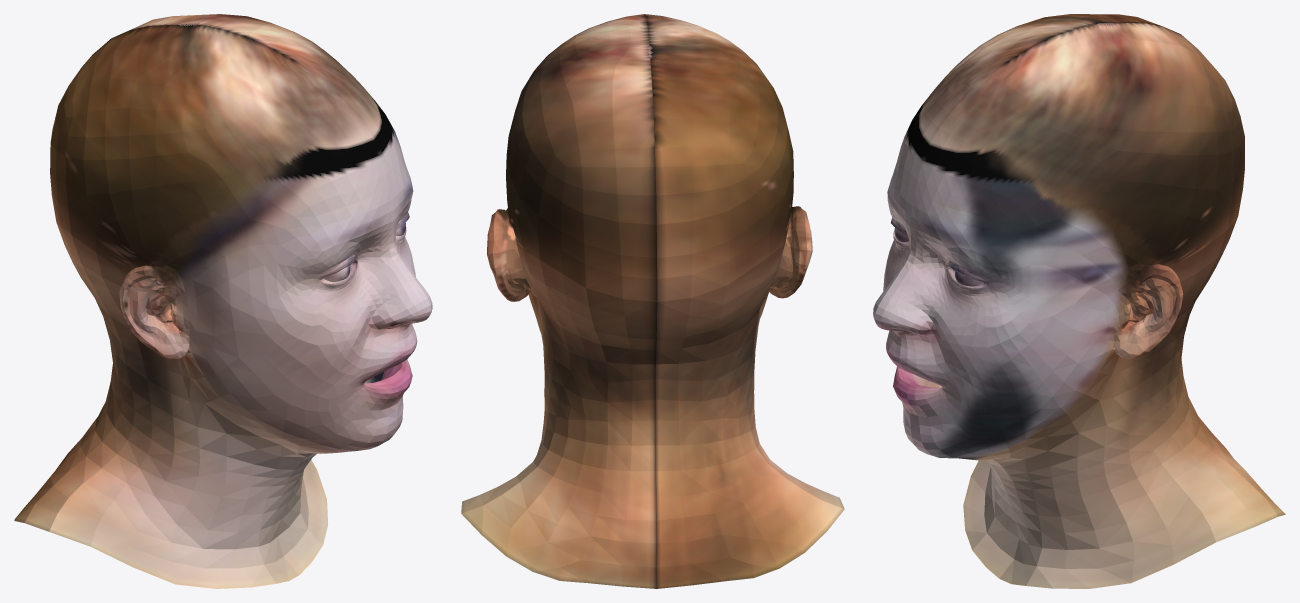
The model's file is cheo1_frame0005.obj.
The picture shows the model from 3 angles, left to right: view 1: azimuth 30°, elevation 25°; view 2: azimuth 150°, elevation 25°; view 3: azimuth 270°, elevation 25°; orthographic projection. The views are drawn at different scales.
Bounding box in the file's own units: 0.2139 × 0.3203 × 0.226.
Materials: 1 (1 with a texture image).
